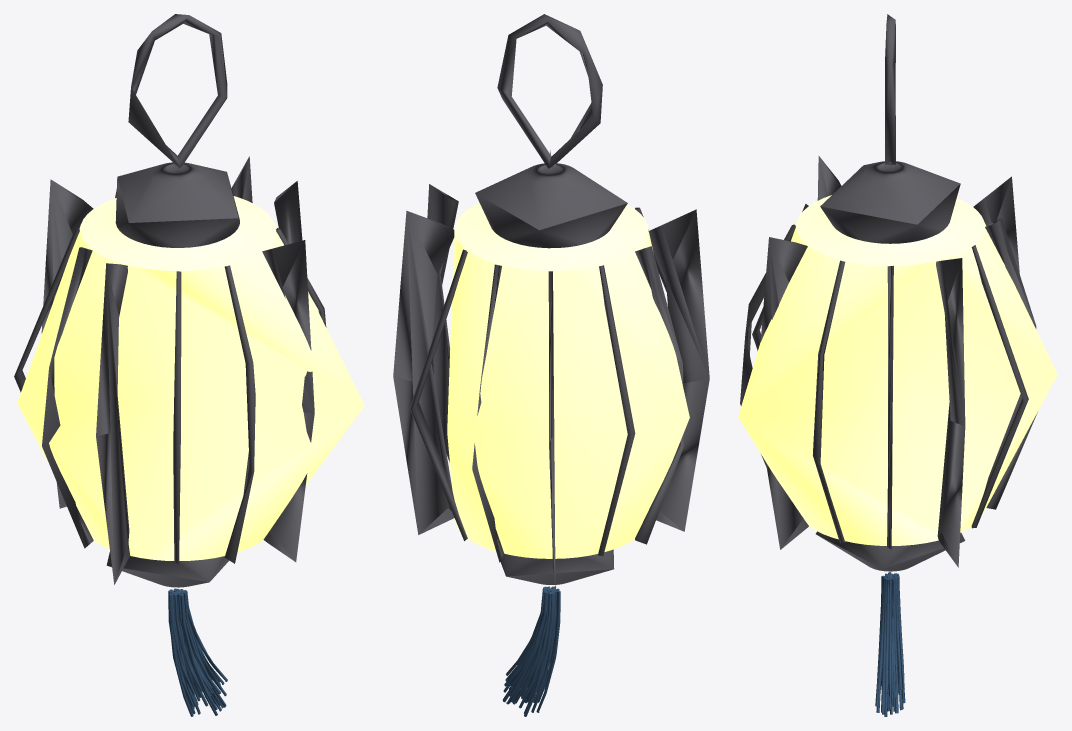
File: den-canh-hai-dang.glb
3 views of the same model, side by side, from view 1: azimuth 30°, elevation 25°; view 2: azimuth 150°, elevation 25°; view 3: azimuth 270°, elevation 25° (orthographic). The views are drawn at different scales.
Parts seen in each view (by area): view 1: shade, ribs, cap_t, handle, tassel, cap_b; view 2: shade, ribs, cap_t, handle, tassel, cap_b; view 3: shade, ribs, cap_t, tassel, cap_b, handle.
Part boxes in pixels (bbox=[...]): shade: bbox=[17, 196, 364, 560]; ribs: bbox=[14, 156, 326, 584]; cap_t: bbox=[115, 162, 239, 247]; handle: bbox=[128, 14, 227, 168]; tassel: bbox=[168, 588, 227, 716]; cap_b: bbox=[106, 552, 229, 587]; shade: bbox=[447, 203, 689, 558]; ribs: bbox=[393, 150, 709, 589]; cap_t: bbox=[475, 163, 627, 248]; handle: bbox=[497, 14, 602, 168]; tassel: bbox=[502, 586, 560, 716]; cap_b: bbox=[500, 549, 614, 584]; shade: bbox=[738, 195, 1057, 545]; ribs: bbox=[740, 156, 1037, 567]; cap_t: bbox=[820, 161, 960, 243]; tassel: bbox=[875, 572, 905, 716]; cap_b: bbox=[816, 531, 965, 571]; handle: bbox=[885, 14, 895, 165].
Bounding box in the file's own units: 0.3701 × 0.8758 × 0.3725.
